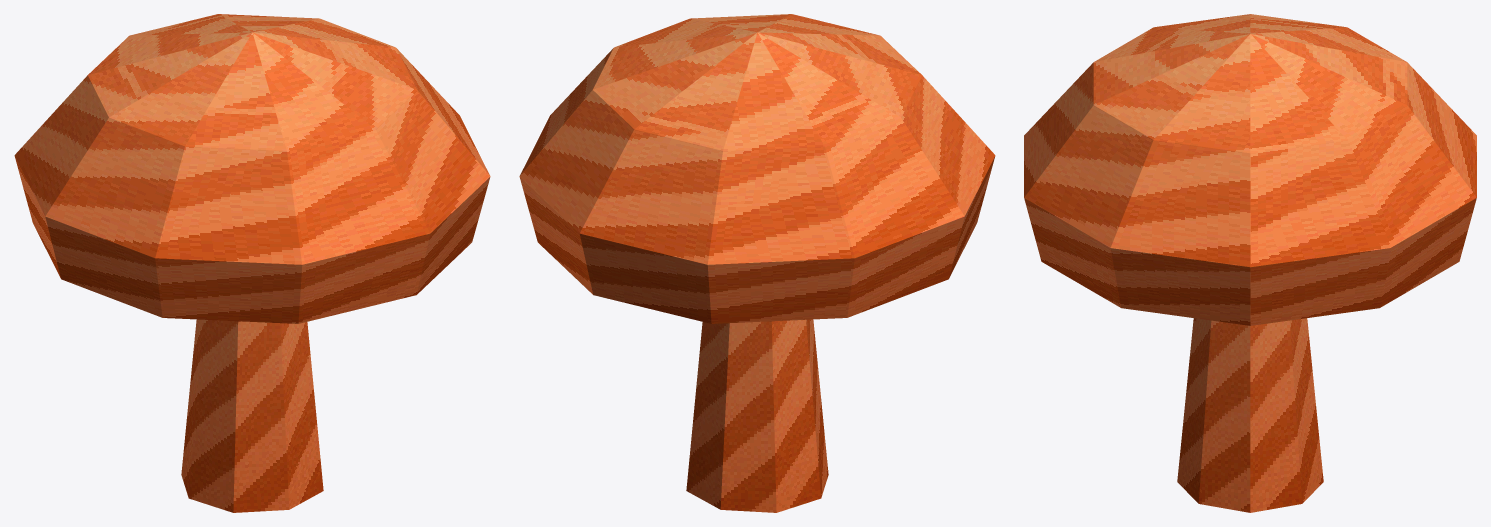
Rendered from cogumelo_de_brasa.glb.
3 views of the same model, side by side, from view 1: azimuth 30°, elevation 25°; view 2: azimuth 150°, elevation 25°; view 3: azimuth 270°, elevation 25° (orthographic).
Visible parts, largest first — view 1: cogumelo_de_brasa; view 2: cogumelo_de_brasa; view 3: cogumelo_de_brasa.
Boxes of the visible parts, <box> form: cogumelo_de_brasa: <box>14,14,490,512</box>; cogumelo_de_brasa: <box>519,14,995,512</box>; cogumelo_de_brasa: <box>1024,14,1476,512</box>.
Size of the model in its own units: 0.494 by 0.513 by 0.4698.
1 material, 1 textured.
